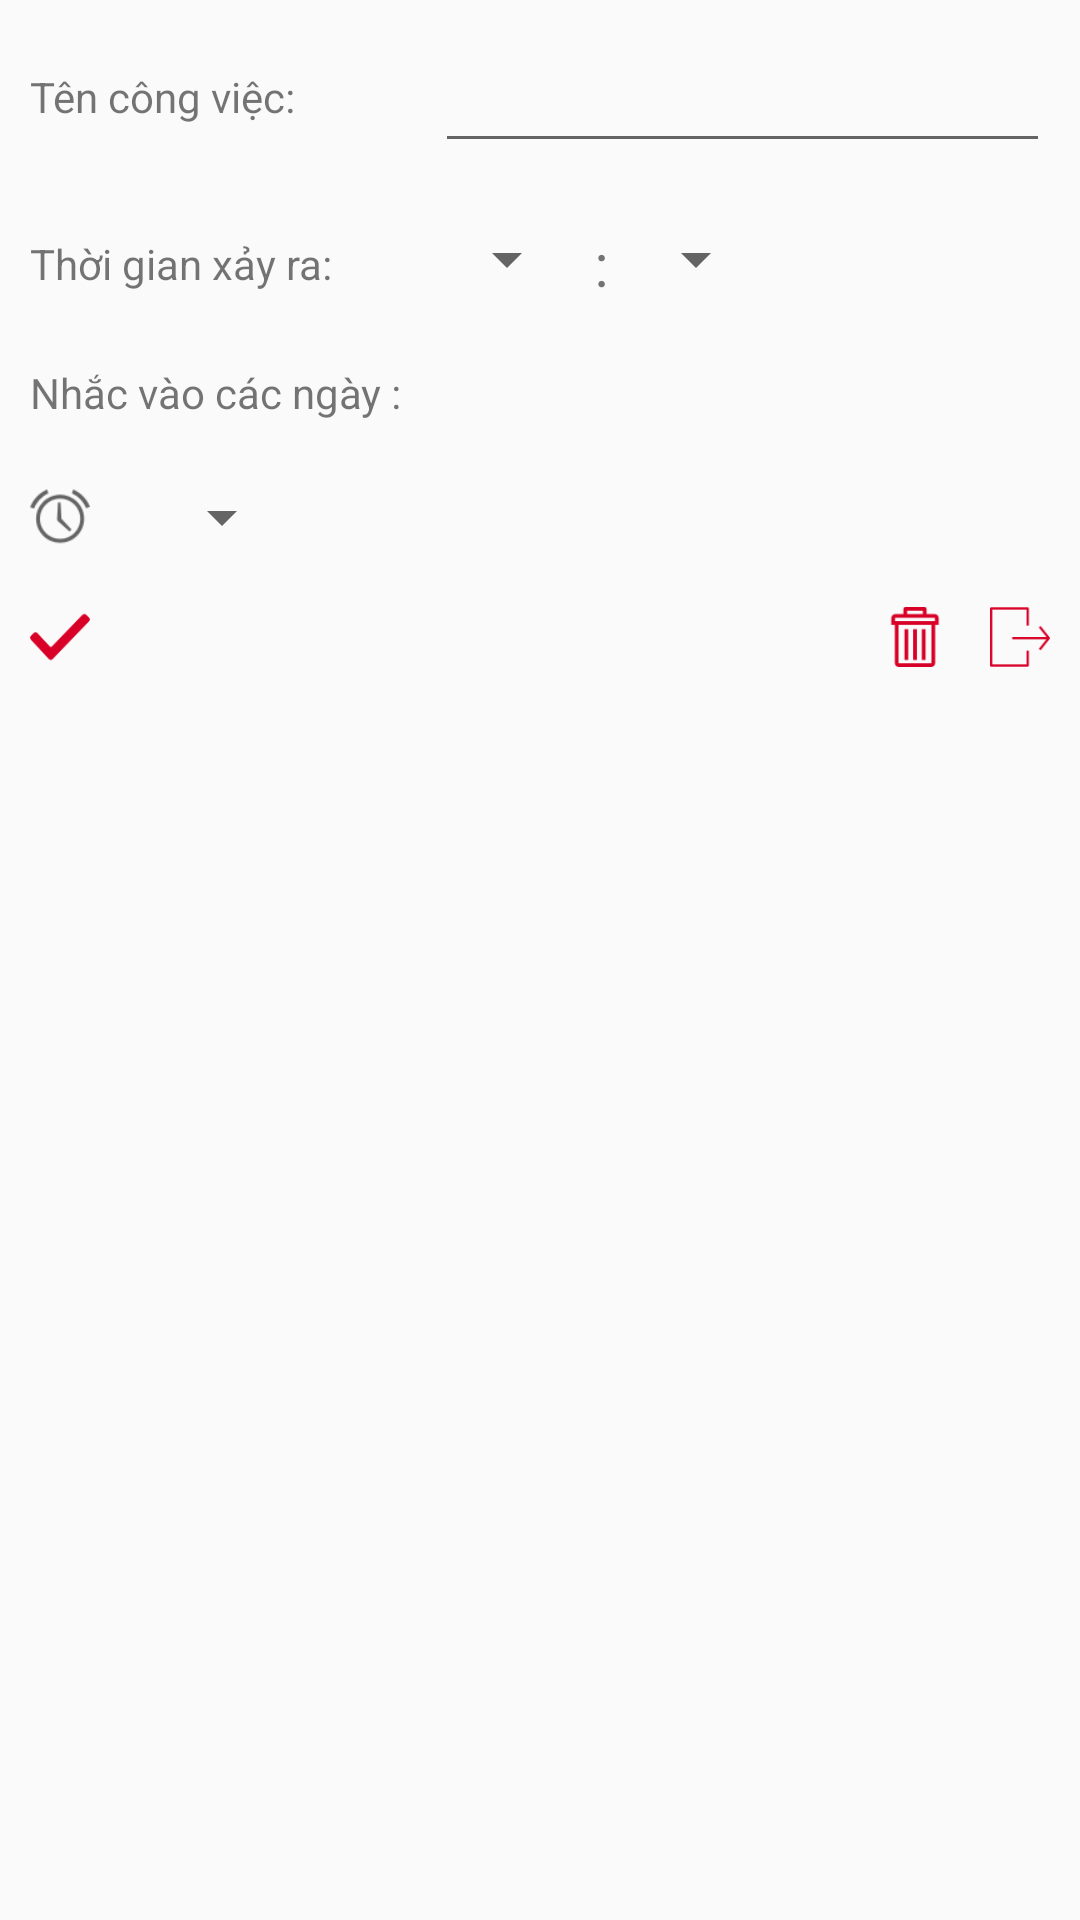

Point at icon controls on the screen. Image size 1080px×1920px, points as point (x, y).
delete: point (915, 637)
exit: point (1020, 637)
lock idle alarm: point (60, 516)
